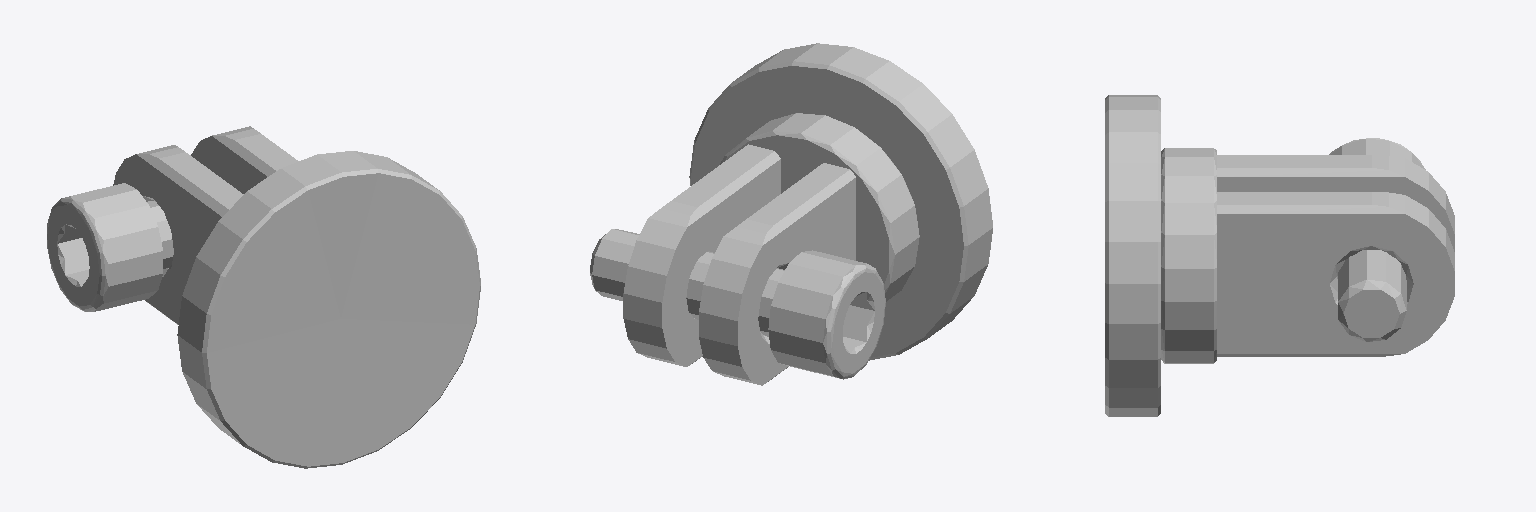
Rendered from camera_mount_top.obj.
3 renders of one model, left to right at view 1: azimuth 30°, elevation 25°; view 2: azimuth 150°, elevation 25°; view 3: azimuth 270°, elevation 25°, orthographic.
Parts seen in each view (by area): view 1: Camera_mount; view 2: Camera_mount; view 3: Camera_mount.
Boxes of the visible parts, box(x1,y1,x2,y2) form: Camera_mount: box(47, 126, 480, 468); Camera_mount: box(590, 43, 992, 385); Camera_mount: box(1105, 95, 1454, 416).
Size of the model in its own units: 0.023 by 0.023 by 0.0249.